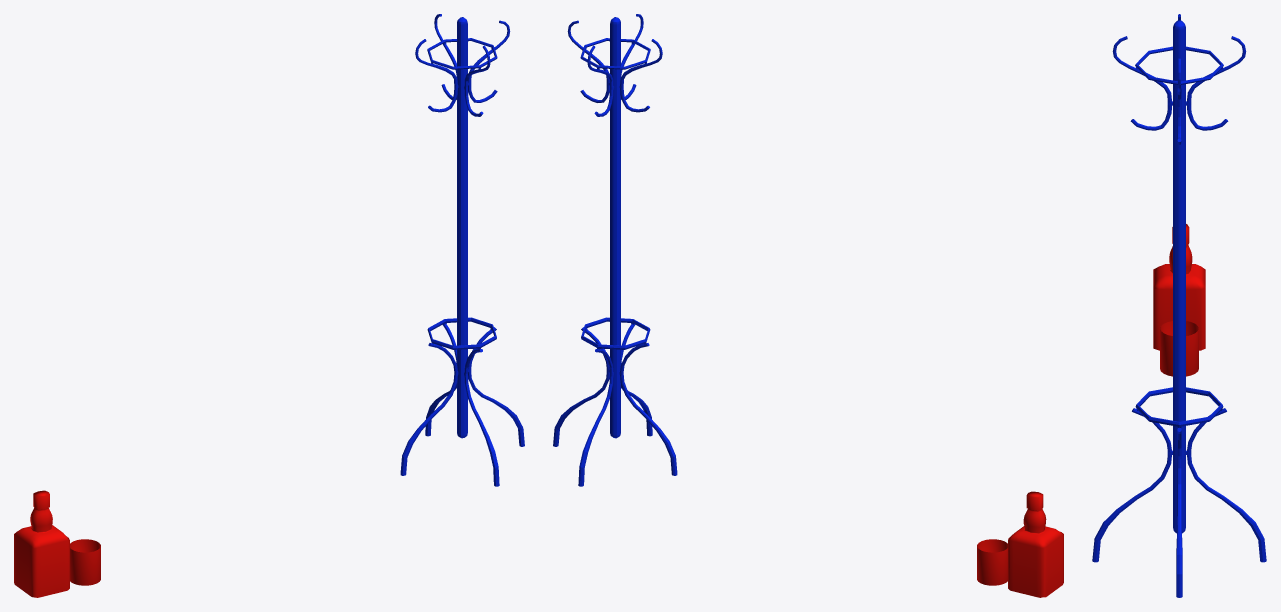
File: Eingangshalle_neu.fbx
3 renders of one model, left to right at view 1: azimuth 30°, elevation 25°; view 2: azimuth 150°, elevation 25°; view 3: azimuth 270°, elevation 25°, orthographic. The views are drawn at different scales.
Parts seen in each view (by area): view 1: Garderobenständer, whiskyflasche, whiskyglas; view 2: Garderobenständer, whiskyflasche, whiskyglas; view 3: Garderobenständer, whiskyflasche, whiskyglas.
Part boxes in pixels (<box>): Garderobenständer: <box>400,14,524,486</box>; whiskyflasche: <box>14,490,69,597</box>; whiskyglas: <box>70,539,100,585</box>; Garderobenständer: <box>553,14,677,486</box>; whiskyflasche: <box>1008,491,1063,597</box>; whiskyglas: <box>977,539,1007,585</box>; Garderobenständer: <box>1092,14,1266,597</box>; whiskyflasche: <box>1153,224,1205,350</box>; whiskyglas: <box>1160,321,1198,376</box>.
Size of the model in its own units: 3209 by 2869 by 793.
